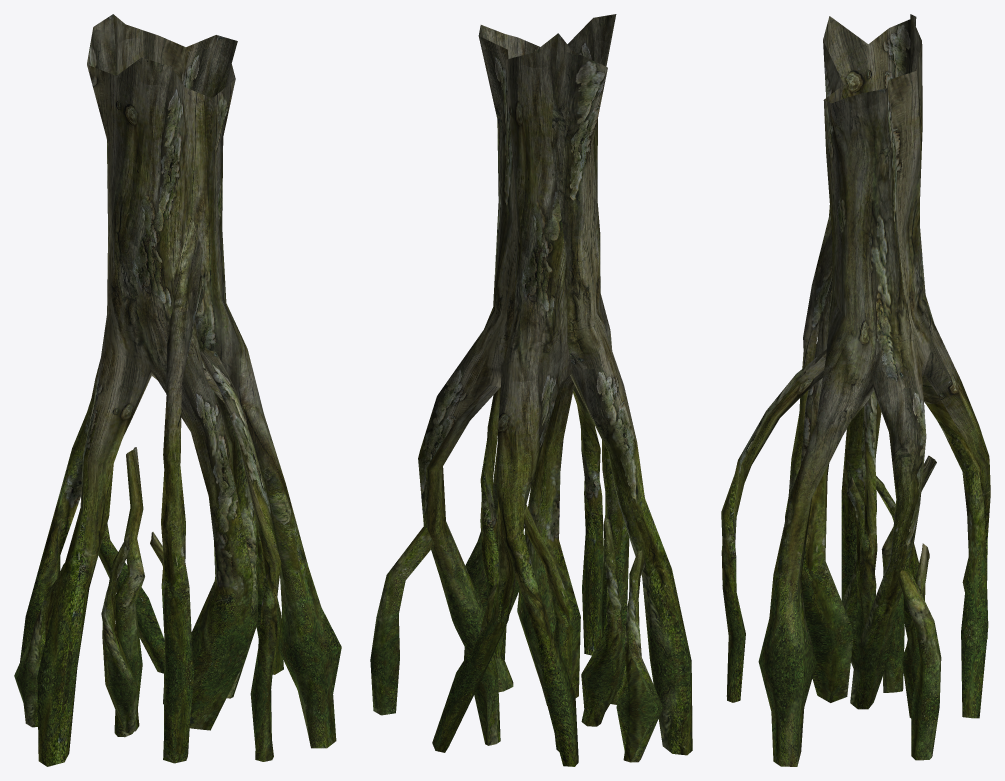
File: prayer_gate_tree.fbx
The picture shows the model from 3 angles, left to right: view 1: azimuth 30°, elevation 25°; view 2: azimuth 150°, elevation 25°; view 3: azimuth 270°, elevation 25°; orthographic projection. The views are drawn at different scales.
Parts seen in each view (by area): view 1: prayer_gate_tree; view 2: prayer_gate_tree; view 3: prayer_gate_tree.
Boxes of the visible parts, x1,y1,x2,y2 form: prayer_gate_tree: (14, 14, 341, 766); prayer_gate_tree: (370, 14, 692, 766); prayer_gate_tree: (721, 14, 990, 766).
Bounding box in the file's own units: 32.78 × 81.3 × 29.1.
